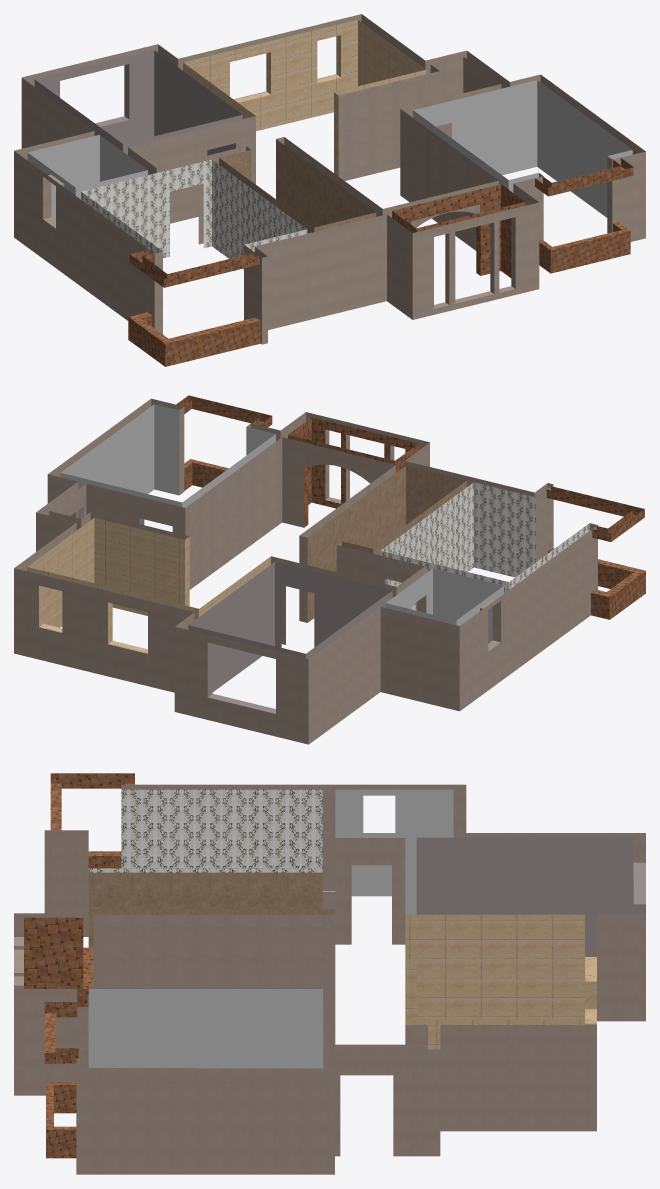
Rendered from weiqiang.fbx.
3 renders of one model, top to bottom at view 1: azimuth 30°, elevation 25°; view 2: azimuth 150°, elevation 25°; view 3: azimuth 270°, elevation 25°, orthographic. The views are drawn at different scales.
Visible parts, largest first — view 1: weiqiang; view 2: weiqiang; view 3: weiqiang.
Boxes of the visible parts, left/top/right/bottom form: weiqiang: left=14, top=14, right=645, bottom=366; weiqiang: left=14, top=395, right=645, bottom=744; weiqiang: left=14, top=773, right=645, bottom=1174.
Bounding box in the file's own units: 1720 × 290 × 1558.
